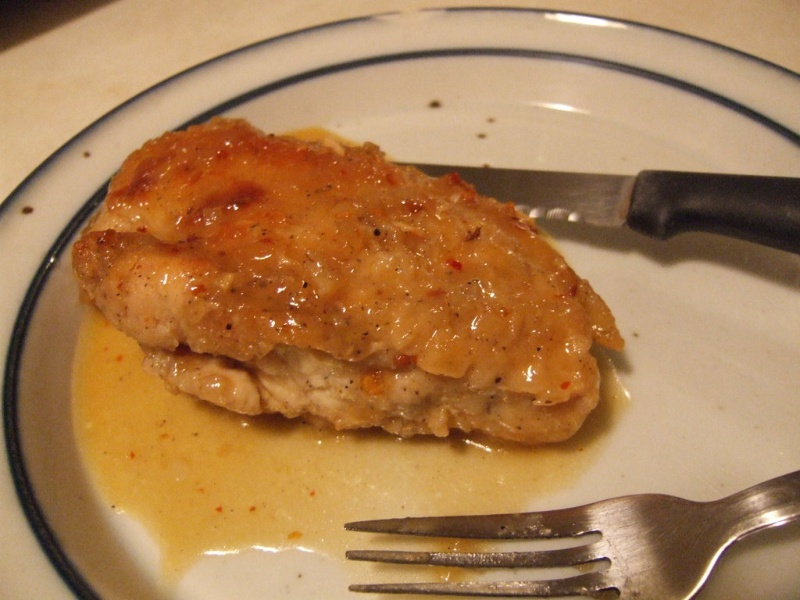knife: (390, 146, 800, 259)
